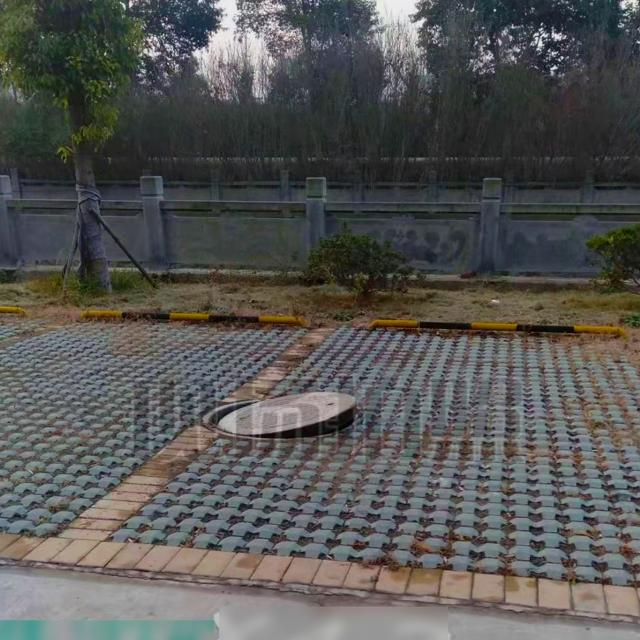uncovered: (200, 391, 367, 444)
